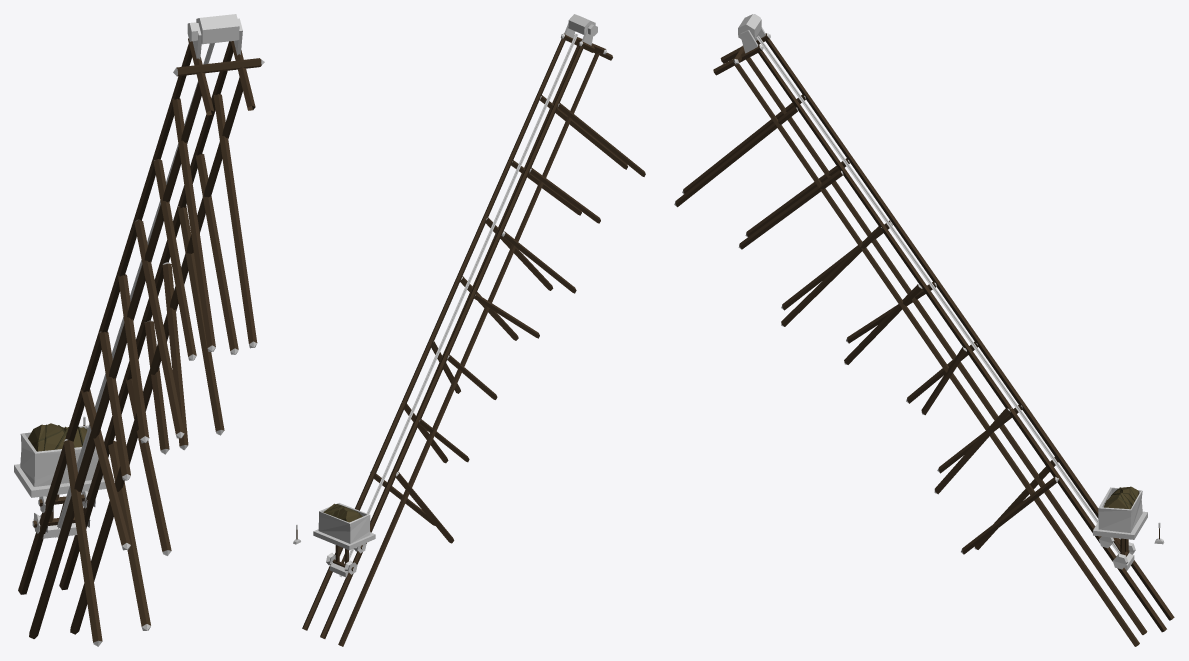
File: ROPEWAY_OW.OBJ
3 views of the same model, side by side, from view 1: azimuth 30°, elevation 25°; view 2: azimuth 150°, elevation 25°; view 3: azimuth 270°, elevation 25° (orthographic). The views are drawn at different scales.
Parts seen in each view (by area): view 1: ROPEWAY_OW; view 2: ROPEWAY_OW; view 3: ROPEWAY_OW.
Boxes of the visible parts, x1=… form: ROPEWAY_OW: x1=14, y1=14, x2=264, y2=646; ROPEWAY_OW: x1=293, y1=14, x2=645, y2=646; ROPEWAY_OW: x1=674, y1=14, x2=1174, y2=646.
Bounding box in the file's own units: 10.15 × 35.89 × 28.04.
